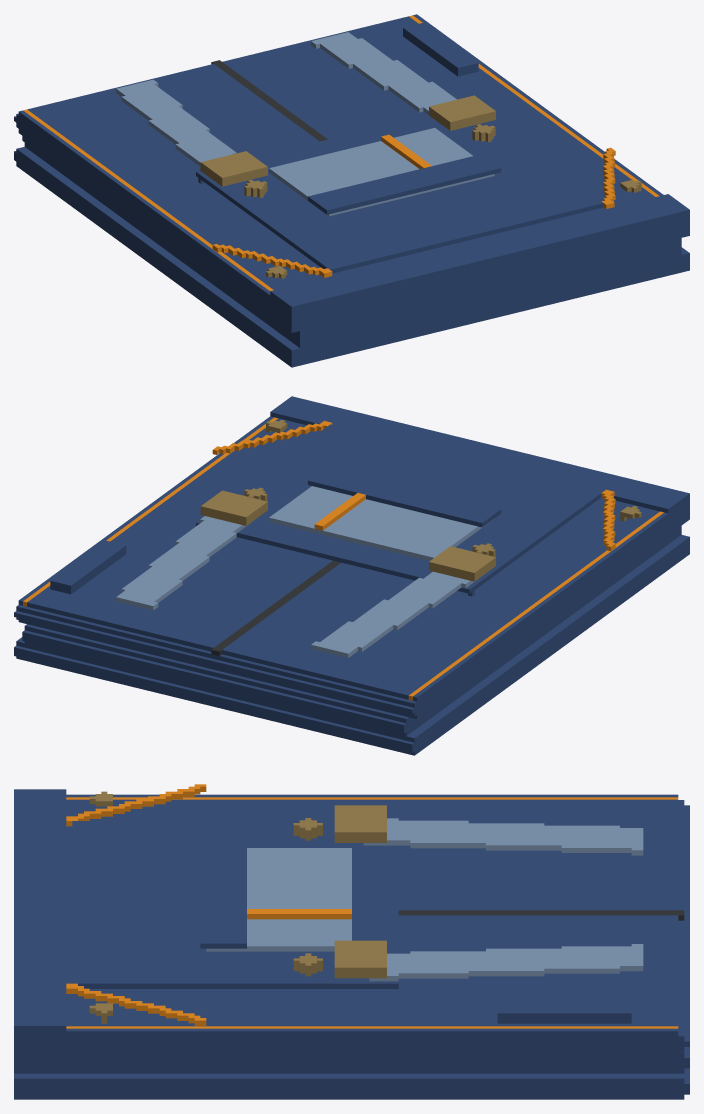
File: denim_overalls.glb
The picture shows the model from 3 angles, top to bottom: view 1: azimuth 30°, elevation 25°; view 2: azimuth 150°, elevation 25°; view 3: azimuth 270°, elevation 25°; orthographic projection. The views are drawn at different scales.
Parts seen in each view (by area): view 1: denim_overalls:compound; view 2: denim_overalls:compound; view 3: denim_overalls:compound.
Part boxes in pixels (x1=…): denim_overalls:compound: x1=14, y1=14, x2=689, y2=367; denim_overalls:compound: x1=14, y1=396, x2=689, y2=755; denim_overalls:compound: x1=14, y1=784, x2=689, y2=1099.
Size of the model in its own units: 0.384 by 0.072 by 0.464.
